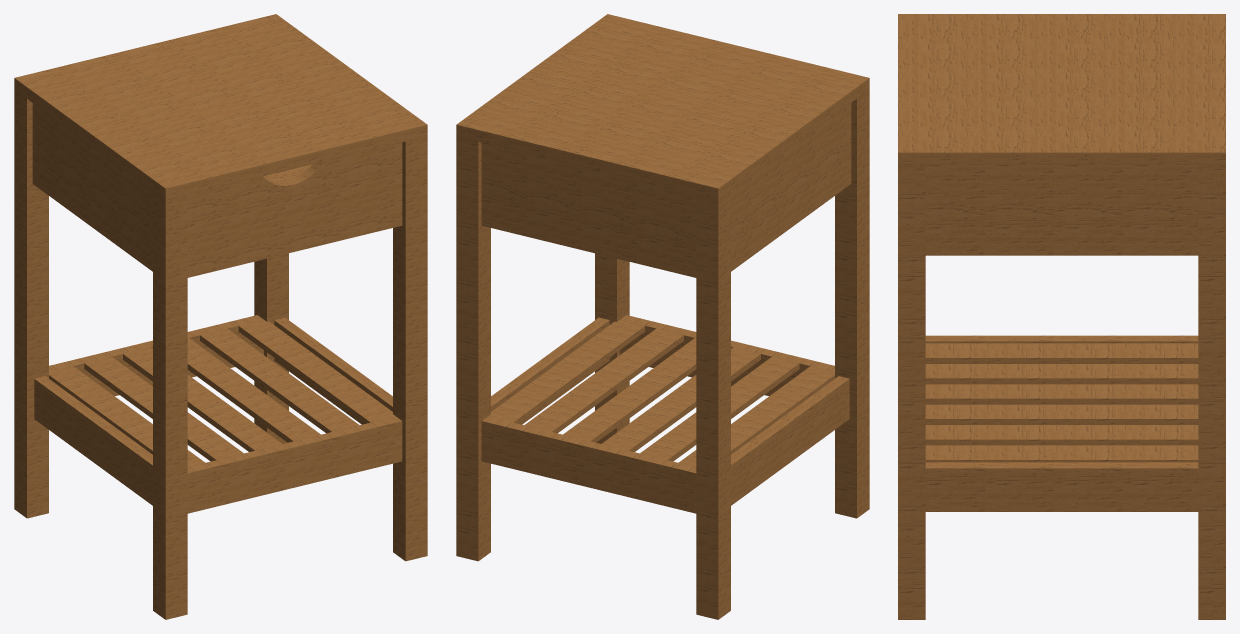
File: Wendy nightstand.dae
3 views of the same model, side by side, from view 1: azimuth 30°, elevation 25°; view 2: azimuth 150°, elevation 25°; view 3: azimuth 270°, elevation 25° (orthographic). The views are drawn at different scales.
Parts seen in each view (by area): view 1: cab_top, Component_6 (×4), cab_slat (×6), Component_7, rail (×2), top_rail_3, top_rail (×2); view 2: cab_top, Component_6 (×4), cab_slat (×6), top_rail_2, rail (×2), top_rail_3, top_rail (×2); view 3: cab_top, cab_slat (×6), Component_6 (×2), top_rail_3, top_rail (×2).
Part boxes in pixels (x1,y1,x2,y2): cab_top: (14,14,427,199); Component_6 (×4): (14,89,427,619); cab_slat (×6): (49,319,395,466); Component_7: (187,142,402,277); rail (×2): (49,315,402,513); top_rail_3: (32,103,152,271); top_rail (×2): (34,317,392,505); cab_top: (456,14,869,199); Component_6 (×4): (456,89,869,619); cab_slat (×6): (488,319,834,466); top_rail_2: (481,142,696,277); rail (×2): (481,315,834,513); top_rail_3: (731,103,851,271); top_rail (×2): (491,317,849,505); cab_top: (898,14,1225,164); cab_slat (×6): (925,343,1198,462); Component_6 (×2): (898,165,1225,619); top_rail_3: (925,165,1198,255); top_rail (×2): (925,335,1198,511).
Size of the model in its own units: 18.74 by 18.74 by 29.49.
Materials: 2 (2 with a texture image).
